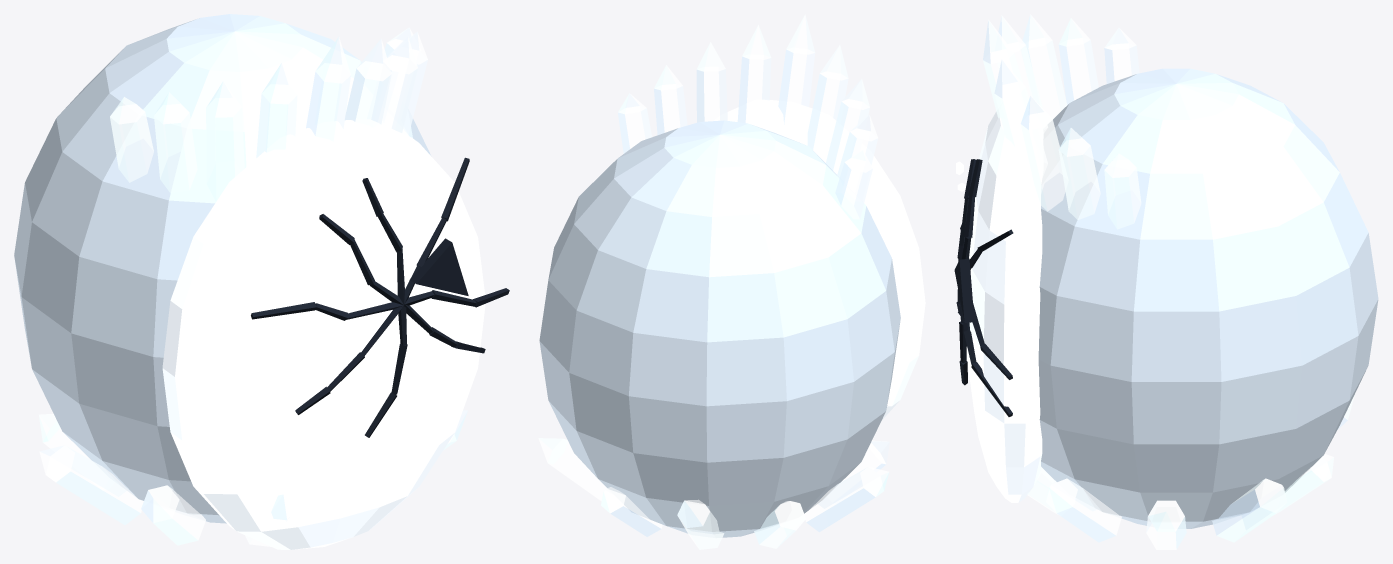
File: reflection_face.glb
3 views of the same model, side by side, from view 1: azimuth 30°, elevation 25°; view 2: azimuth 150°, elevation 25°; view 3: azimuth 270°, elevation 25° (orthographic). The views are drawn at different scales.
Parts seen in each view (by area): view 1: reflection_face; view 2: reflection_face; view 3: reflection_face.
Boxes of the visible parts, bbox=[...] form: reflection_face: bbox=[14, 14, 509, 549]; reflection_face: bbox=[538, 14, 925, 549]; reflection_face: bbox=[954, 14, 1378, 549].
Bounding box in the file's own units: 0.8061 × 1.08 × 0.8399.
